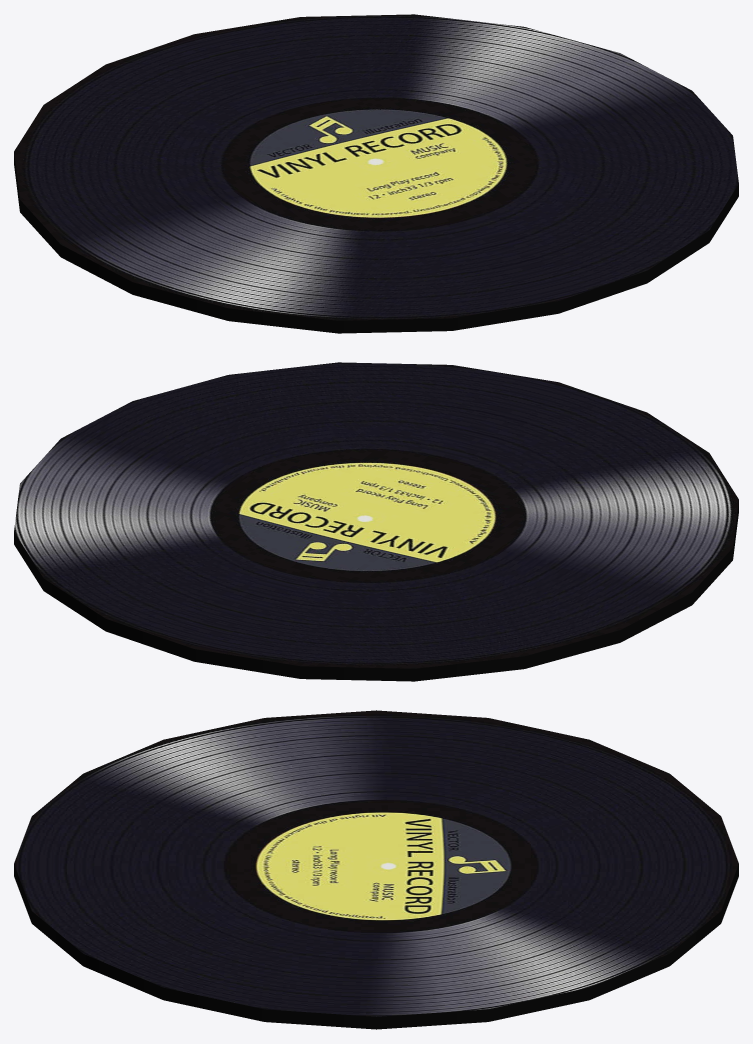
The model's file is Disco.obj.
The picture shows the model from 3 angles, top to bottom: view 1: azimuth 30°, elevation 25°; view 2: azimuth 150°, elevation 25°; view 3: azimuth 270°, elevation 25°; orthographic projection.
Visible parts, largest first — view 1: polySurface1 Gramofono:pCylinder2; view 2: polySurface1 Gramofono:pCylinder2; view 3: polySurface1 Gramofono:pCylinder2.
Boxes of the visible parts, left/top/right/bottom form: polySurface1 Gramofono:pCylinder2: left=14, top=14, right=738, bottom=333; polySurface1 Gramofono:pCylinder2: left=14, top=362, right=738, bottom=681; polySurface1 Gramofono:pCylinder2: left=14, top=710, right=738, bottom=1029.
Size of the model in its own units: 2.08 by 0.0402 by 2.08.
3 materials, 3 textured.
